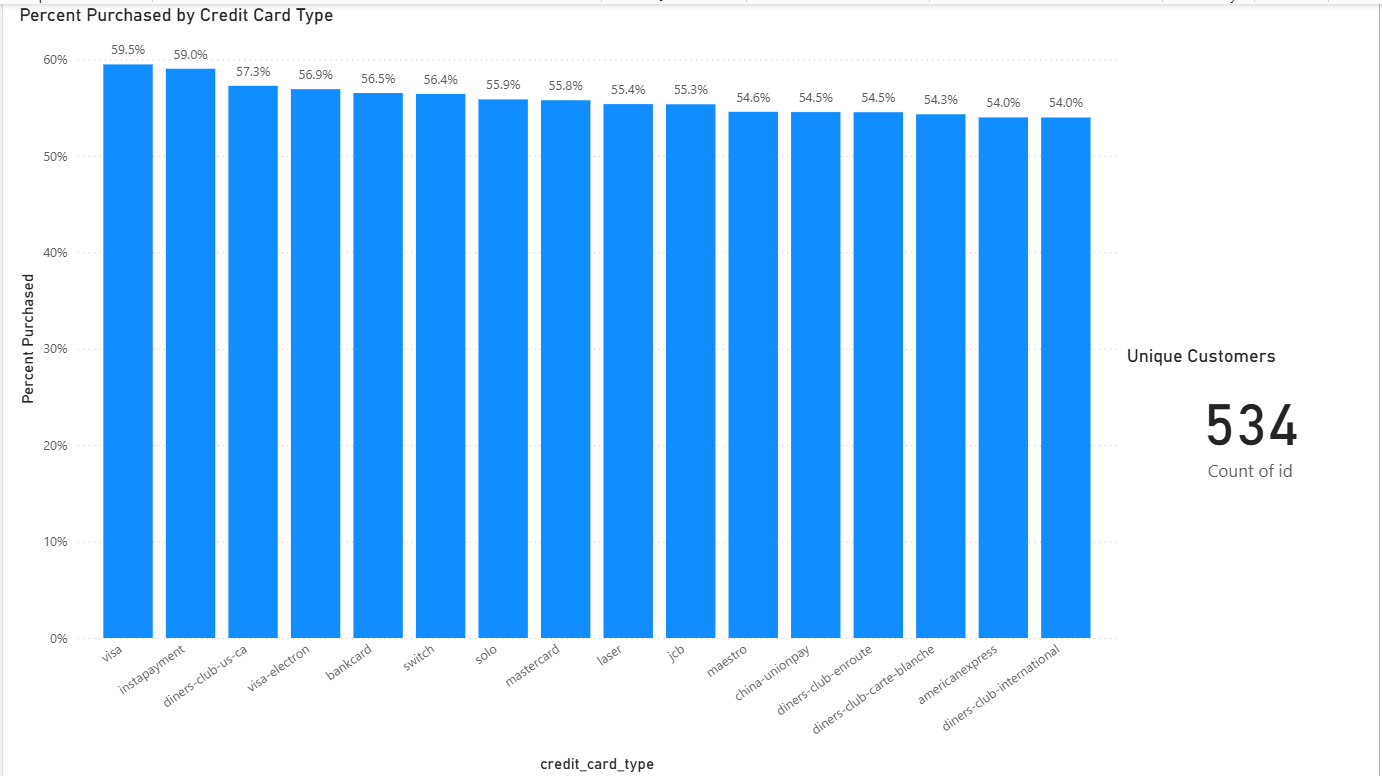

This screenshot's page, from the dashboard's own definition file:
{"tool":"powerbi","page":{"name":"Q7","canvas":[1280,720],"ordinal":6},"visuals":[{"type":"clusteredColumnChart","title":"Percent Purchased by Credit Card Type","fields":{"Category":["CustomerDemographics_SalesData_.credit_card_type"],"Y":["CustomerDemographics_SalesData_.Percent Purchased"]},"box":[10.5,0,1030.2,719.8],"z":0},{"type":"card","title":"Unique Customers","fields":{"Values":["Count(CustomerDemographics_SalesData_.id)"]},"box":[1040.7,317.4,239.5,137.2],"z":1000}]}

Visuals, with their boxes in screenshot pixels (x1, y1, x2, y2), scaled from the page's 1280x720 canvas onto the 1382x776 screenshot:
"Percent Purchased by Credit Card Type" clusteredColumnChart: l=11, t=0, r=1124, b=775
"Unique Customers" card: l=1124, t=342, r=1381, b=490
